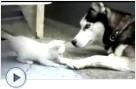dog: (57, 2, 135, 72), (0, 30, 70, 65)
